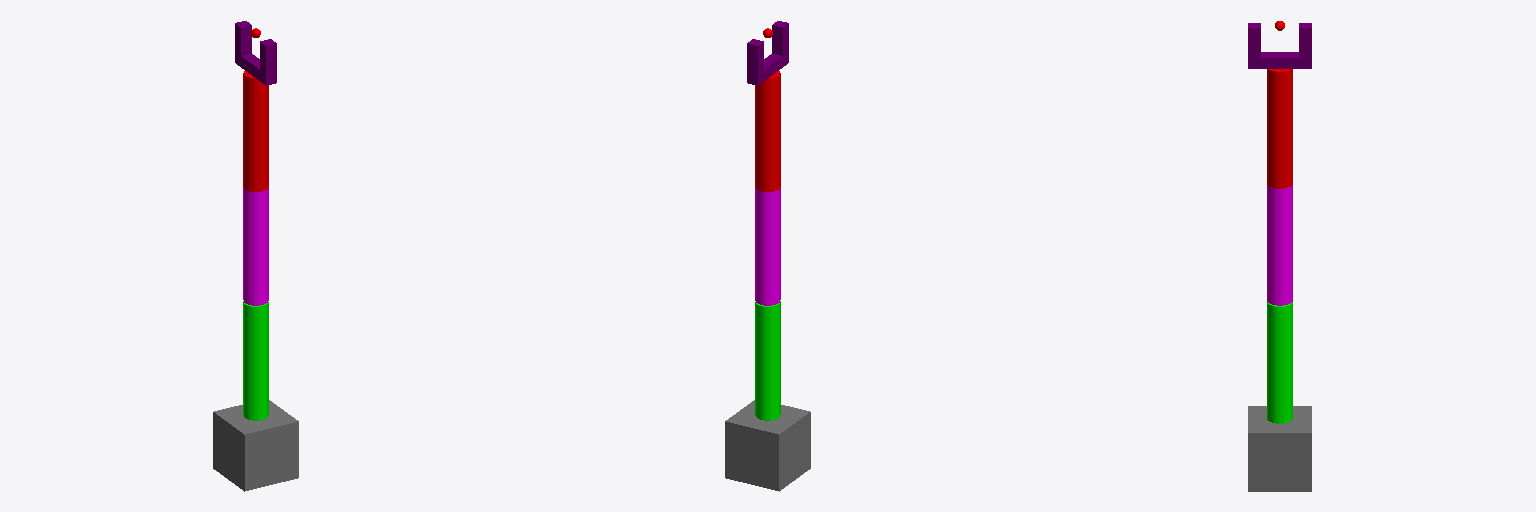
robot.urdf — new_robot:
<?xml version='1.0' encoding='utf-8'?>
<robot name="new_robot">
    <link name="base_link">
        <visual>
            <origin xyz="0 0 0" rpy="0 0 0" />
            <geometry>
                <box size="0.25 0.25 0.25" />
            </geometry>
            <material name="gray">
                <color rgba="0.5 0.5 0.5 1" />
            </material>
        </visual>
    </link>
    <joint name="joint0" type="prismatic">
        <parent link="base_link" />
        <child link="link0" />
        <axis xyz="0 1 0" />
        <origin xyz="0 0 0.13" rpy="0 0 0" />
        <limit lower="-1.57" upper="1.57" effort="10" velocity="1" />
    </joint>
    <link name="link0">
        <visual>
            <origin xyz="0 0 0.0" rpy="0 0 0" />
            <geometry>
                <cylinder length="0" radius="0" />
            </geometry>
            <material name="blue">
                <color rgba="0 0 1 1" />
            </material>
        </visual>
        <collision>
            <origin xyz="0 0 0.0" rpy="0 0 0" />
            <geometry>
                <cylinder length="0" radius="0" />
            </geometry>
        </collision>
    </link>
    <joint name="joint1" type="revolute">
        <parent link="link0" />
        <child link="link1" />
        <axis xyz="1 0 0" />
        <origin xyz="0 0 0" rpy="0 0 0" />
        <limit lower="-1.57" upper="1.57" effort="10" velocity="1" />
    </joint>
    <link name="link1">
        <visual>
            <origin xyz="0 0 0.25" rpy="0 0 0" />
            <geometry>
                <cylinder length="0.5" radius="0.05" />
            </geometry>
            <material name="green">
                <color rgba="0 1 0 1" />
            </material>
        </visual>
        <collision>
            <origin xyz="0 0 0.25" rpy="0 0 0" />
            <geometry>
                <cylinder length="0.5" radius="0.05" />
            </geometry>
        </collision>
    </link>
    <joint name="joint2" type="prismatic">
        <parent link="link1" />
        <child link="link2" />
        <axis xyz="0 1 0" />
        <origin xyz="0 0 0.505" rpy="0 0 0" />
        <limit lower="-1.57" upper="1.57" effort="10" velocity="1" />
    </joint>
    <link name="link2">
        <visual>
            <origin xyz="0 0 0.0" rpy="0 0 0" />
            <geometry>
                <cylinder length="0" radius="0" />
            </geometry>
            <material name="yellow">
                <color rgba="1 1 0 1" />
            </material>
        </visual>
        <collision>
            <origin xyz="0 0 0.0" rpy="0 0 0" />
            <geometry>
                <cylinder length="0" radius="0" />
            </geometry>
        </collision>
    </link>
    <joint name="joint3" type="revolute">
        <parent link="link2" />
        <child link="link3" />
        <axis xyz="1 0 0" />
        <origin xyz="0 0 0" rpy="0 0 0" />
        <limit lower="-1.57" upper="1.57" effort="10" velocity="1" />
    </joint>
    <link name="link3">
        <visual>
            <origin xyz="0 0 0.25" rpy="0 0 0" />
            <geometry>
                <cylinder length="0.5" radius="0.05" />
            </geometry>
            <material name="pink">
                <color rgba="1 0 1 1" />
            </material>
        </visual>
        <collision>
            <origin xyz="0 0 0.25" rpy="0 0 0" />
            <geometry>
                <cylinder length="0.5" radius="0.05" />
            </geometry>
        </collision>
    </link>
    <joint name="joint4" type="revolute">
        <parent link="link3" />
        <child link="link4" />
        <axis xyz="1 0 0" />
        <origin xyz="0 0 0.5" rpy="0 0 0" />
        <limit lower="-1.57" upper="1.57" effort="10" velocity="1" />
    </joint>
    <link name="link4">
        <visual>
            <origin xyz="0 0 0.25" rpy="0 0 0" />
            <geometry>
                <cylinder length="0.5" radius="0.05" />
            </geometry>
            <material name="red">
                <color rgba="1 0 0 1" />
            </material>
        </visual>
        <collision>
            <origin xyz="0 0 0.25" rpy="0 0 0" />
            <geometry>
                <cylinder length="0.5" radius="0.05" />
            </geometry>
        </collision>
    </link>
    <joint name="wrist_joint" type="fixed">
        <parent link="link4" />
        <child link="wrist" />
        <axis xyz="0 0 1" />
        <origin xyz="0 0 0.525" rpy="0 0 0" />
    </joint>
    <link name="wrist">
        <visual>
            <origin xyz="0 0 0" rpy="0 0 0" />
            <geometry>
                <box size="0.05 0.25 0.05" />
            </geometry>
            <material name="purple">
                <color rgba="0.5 0 0.5 1" />
            </material>
        </visual>
        <collision>
            <origin xyz="0 0 0" rpy="0 0 0" />
            <geometry>
                <box size="0.05 0.25 0.05" />
            </geometry>
        </collision>
    </link>
    <joint name="left_finger_joint" type="fixed">
        <parent link="wrist" />
        <child link="left_finger" />
        <axis xyz="0 0 1" />
        <origin xyz="0 -0.1 0.075" rpy="0 0 0" />
    </joint>
    <link name="left_finger">
        <visual>
            <origin xyz="0 0 0" rpy="0 0 0" />
            <geometry>
                <box size="0.05 0.05 0.15" />
            </geometry>
            <material name="purple">
                <color rgba="0.5 0 0.5 1" />
            </material>
        </visual>
        <collision>
            <origin xyz="0 0 0" rpy="0 0 0" />
            <geometry>
                <box size="0.05 0.05 0.15" />
            </geometry>
        </collision>
    </link>
    <joint name="right_finger_joint" type="fixed">
        <parent link="wrist" />
        <child link="right_finger" />
        <axis xyz="0 0 1" />
        <origin xyz="0 0.1 0.075" rpy="0 0 0" />
    </joint>
    <link name="right_finger">
        <visual>
            <origin xyz="0 0 0" rpy="0 0 0" />
            <geometry>
                <box size="0.05 0.05 0.15" />
            </geometry>
            <material name="purple">
                <color rgba="0.5 0 0.5 1" />
            </material>
        </visual>
        <collision>
            <origin xyz="0 0 0" rpy="0 0 0" />
            <geometry>
                <box size="0.05 0.05 0.15" />
            </geometry>
        </collision>
    </link>
    <link name="gripper_center">
        <visual>
            <origin xyz="0 0 0" rpy="0 0 0" />
            <geometry>
                <sphere radius="0.02" />
            </geometry>
            <material name="red">
                <color rgba="1 0 0 1" />
            </material>
        </visual>
    </link>
    <joint name="gripper_center_joint" type="fixed">
        <parent link="wrist" />
        <child link="gripper_center" />
        <axis xyz="0 0 1" />
        <origin xyz="0 0 0.15" rpy="0 0 0" />
    </joint>
</robot>

--- What the picture shows (computed from the rendered views, not written in the file) ---
Views: 3 orthographic renders of the robot side by side, from view 1: azimuth 30°, elevation 25°; view 2: azimuth 150°, elevation 25°; view 3: azimuth 270°, elevation 25°.
Robot: new_robot — 10 links, 9 joints (3 revolute, 2 prismatic, 4 fixed); root link base_link; default pose: every joint at zero.
Links seen in each view (by area): view 1: base_link, link1, link3, link4, wrist, left_finger, right_finger; view 2: base_link, link1, link3, link4, wrist, left_finger, right_finger; view 3: base_link, link4, link1, link3, wrist.
Link boxes in pixels (x1,y1,x2,y2): base_link: (213, 400, 298, 491); link1: (243, 301, 268, 420); link3: (243, 187, 268, 305); link4: (243, 71, 268, 191); wrist: (235, 52, 276, 85); left_finger: (260, 39, 276, 79); right_finger: (235, 21, 251, 60); base_link: (725, 400, 810, 491); link1: (755, 301, 780, 420); link3: (755, 187, 780, 305); link4: (755, 71, 780, 191); wrist: (747, 53, 788, 85); left_finger: (772, 21, 788, 60); right_finger: (747, 39, 763, 79); base_link: (1248, 406, 1311, 491); link4: (1267, 69, 1292, 188); link1: (1267, 302, 1292, 423); link3: (1267, 185, 1292, 305); wrist: (1248, 52, 1311, 68).
Bounding box of the posed robot: 0.25 × 0.25 × 1.96 m (x, y, z).
Geometry: primitives only (box / cylinder / sphere), no mesh files.